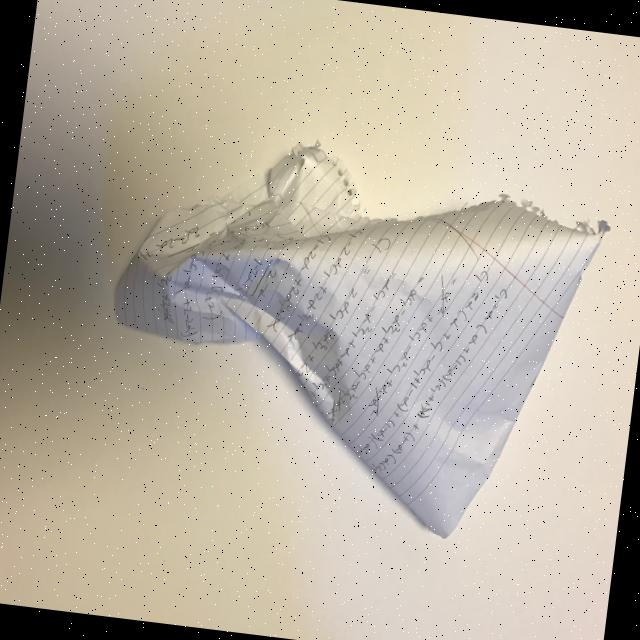paper: (89, 116, 616, 554)
